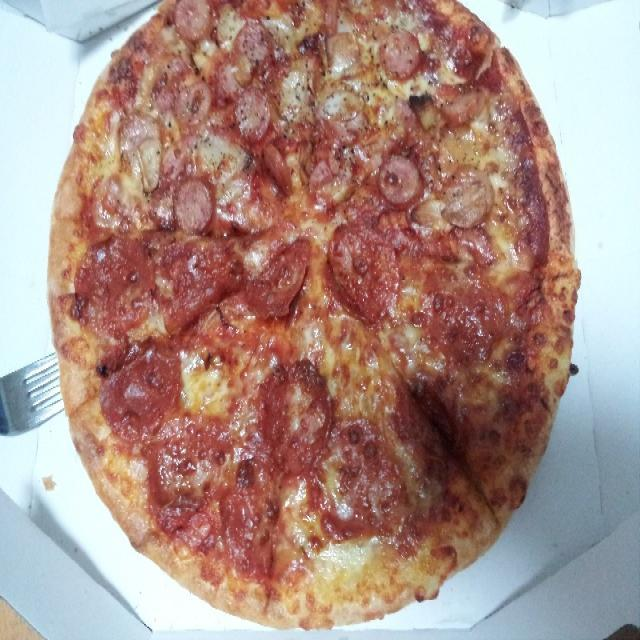Pizza: (39, 4, 594, 630)
